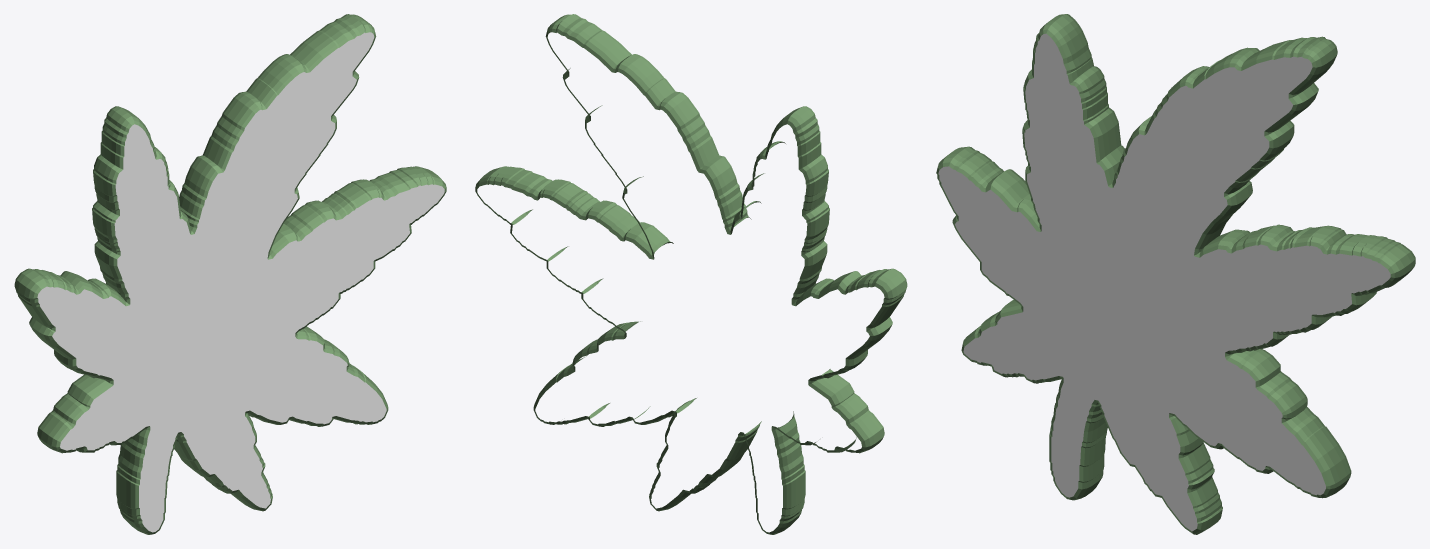
Rendered from leaf-cartoon-3d.glb.
3 renders of one model, left to right at view 1: azimuth 30°, elevation 25°; view 2: azimuth 150°, elevation 25°; view 3: azimuth 330°, elevation 25°, orthographic. The views are drawn at different scales.
Visible parts, largest first — view 1: leafFace, leafSide; view 2: leafSide; view 3: leafFace, leafSide.
Boxes of the visible parts, left/top/right/bottom form: leafFace: left=37, top=32, right=444, bottom=532; leafSide: left=14, top=14, right=446, bottom=534; leafSide: left=475, top=14, right=907, bottom=534; leafFace: left=938, top=33, right=1390, bottom=531; leafSide: left=936, top=14, right=1415, bottom=534.
Bounding box in the file's own units: 0.0185 × 0.0197 × 0.0016.
